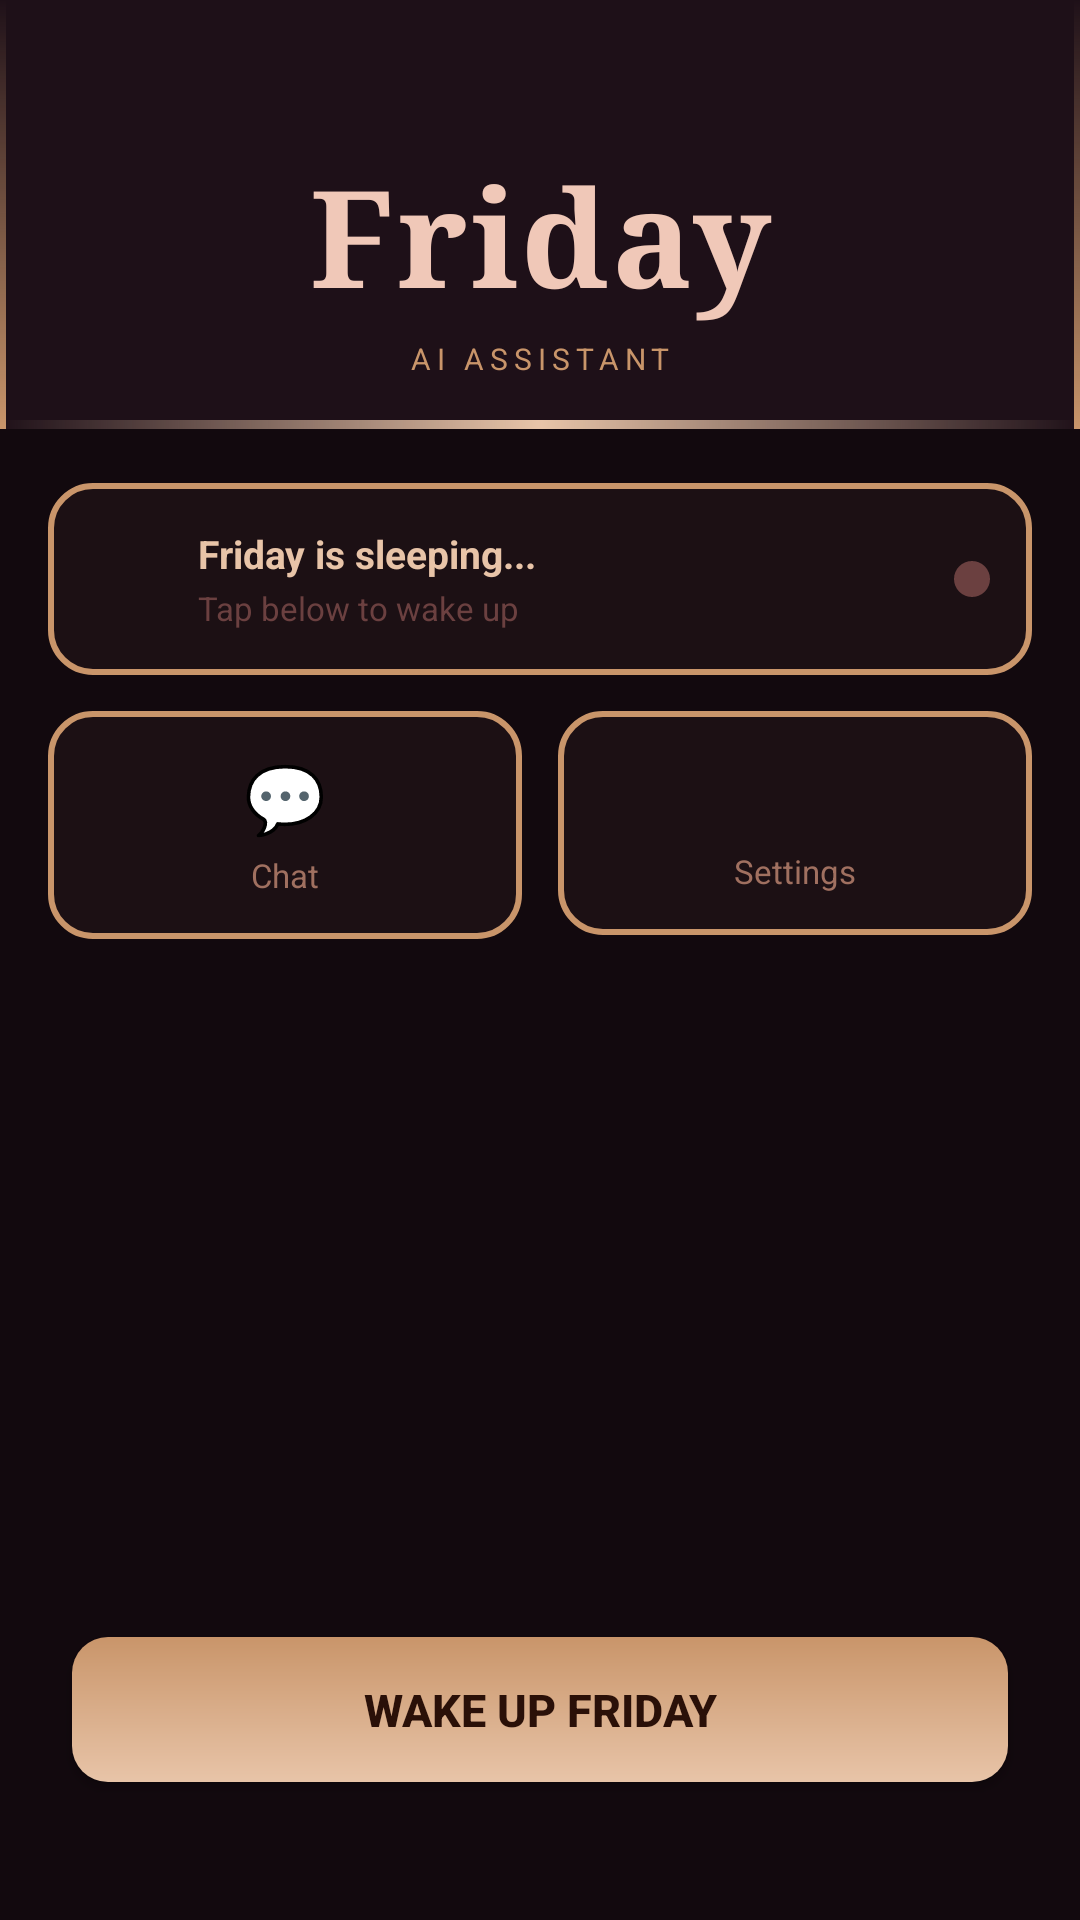

Icon click points for this 1080 x 1920 phone screenshot, format point (x, y):
dot offline: point (972, 579)
